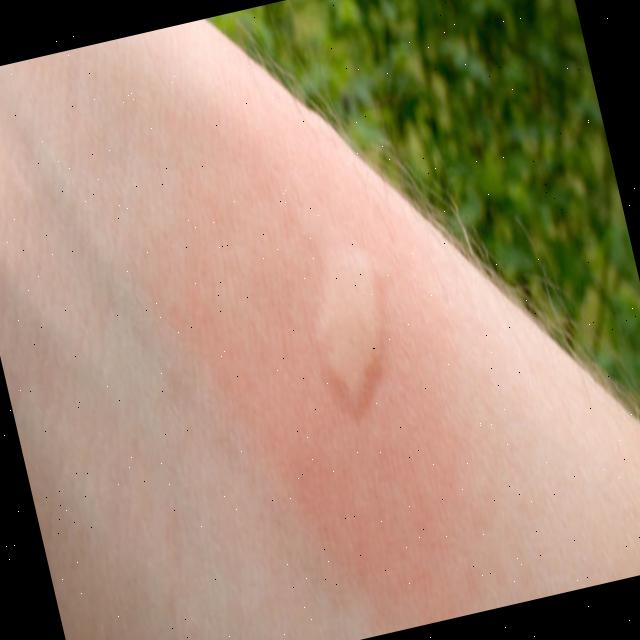sinek: (254, 212, 432, 467)
